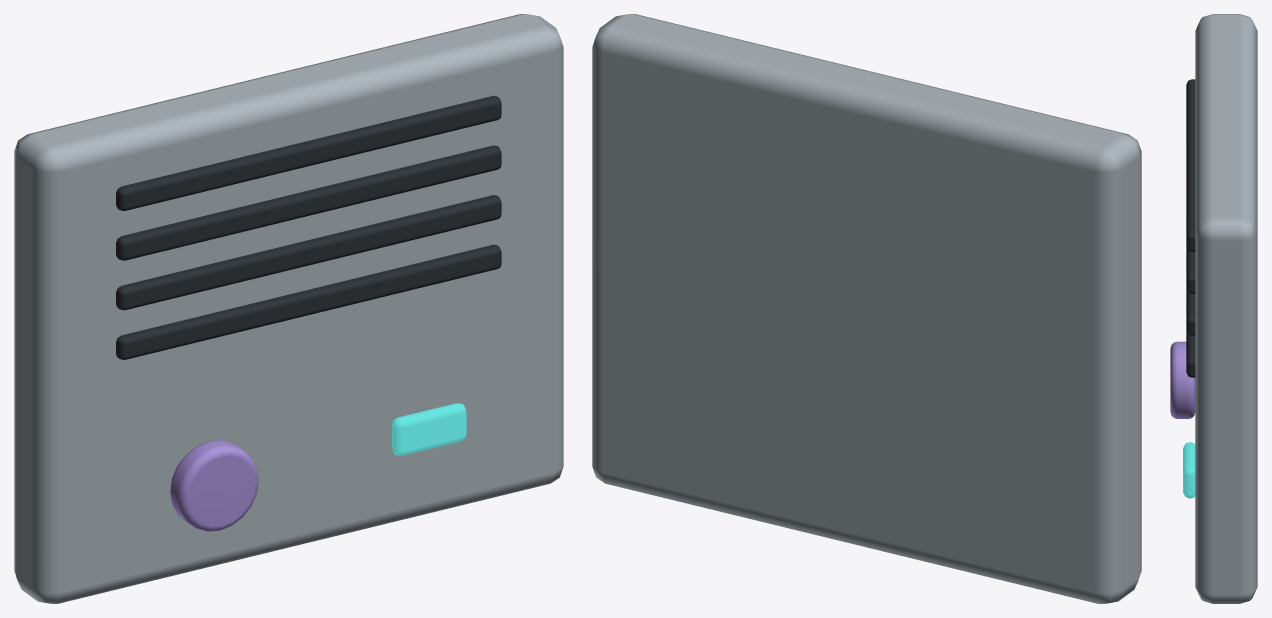
Rendered from SM_Intercom.glb.
3 views of the same model, side by side, from view 1: azimuth 30°, elevation 25°; view 2: azimuth 150°, elevation 25°; view 3: azimuth 270°, elevation 25° (orthographic). The views are drawn at different scales.
Parts seen in each view (by area): view 1: SM_Intercom; view 2: SM_Intercom; view 3: SM_Intercom.
Boxes of the visible parts, bbox=[...] form: SM_Intercom: bbox=[14, 14, 563, 603]; SM_Intercom: bbox=[592, 14, 1141, 603]; SM_Intercom: bbox=[1170, 14, 1257, 603].
Bounding box in the file's own units: 0.29 × 0.24 × 0.049.
Materials: 3 (3 with a texture image).
